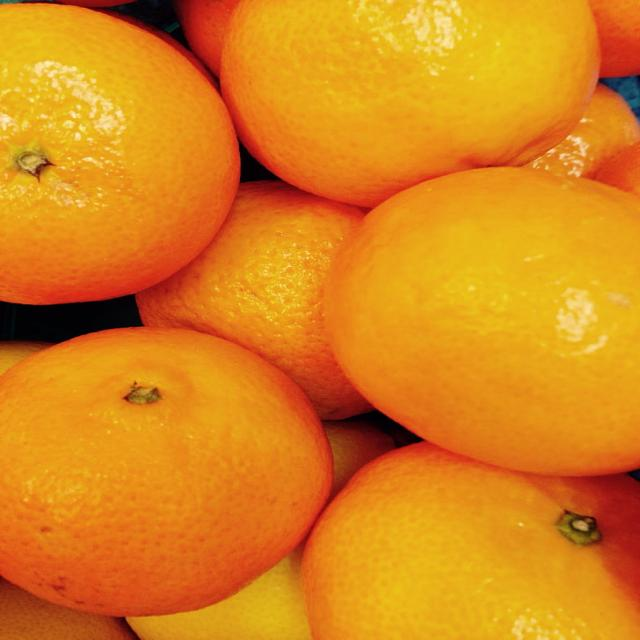orange: (325, 163, 640, 465), (0, 324, 333, 606), (223, 2, 613, 183), (0, 8, 197, 304)
